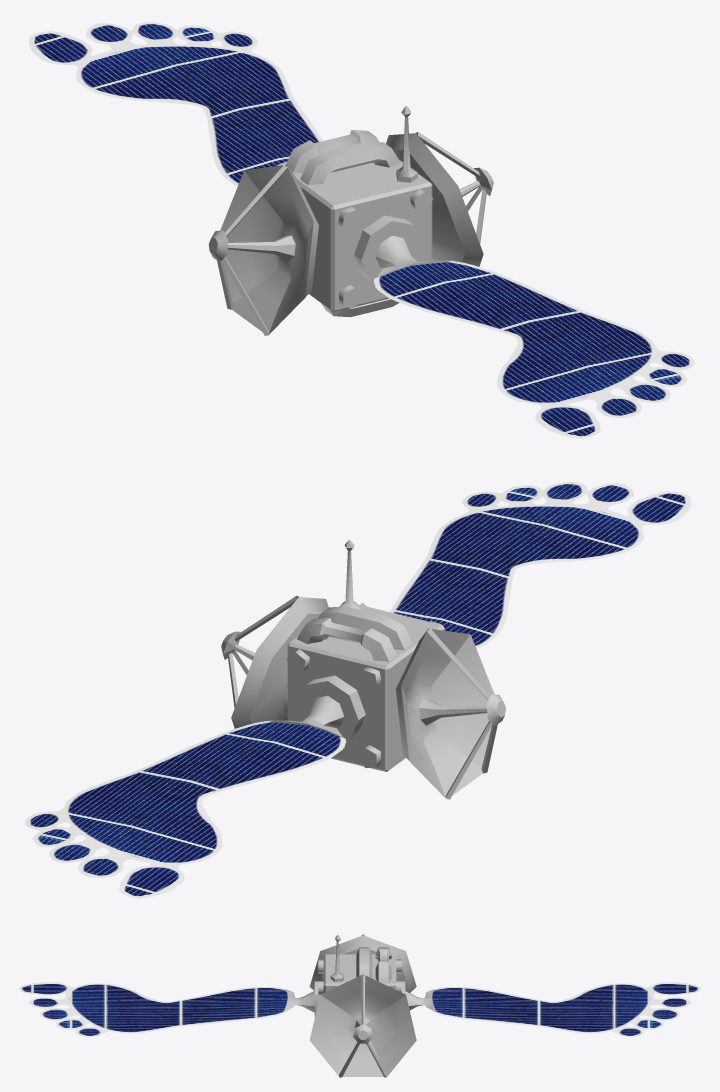
The model's file is SM_Satelifeet.fbx.
3 views of the same model, one above another, from view 1: azimuth 30°, elevation 25°; view 2: azimuth 150°, elevation 25°; view 3: azimuth 270°, elevation 25° (orthographic). The views are drawn at different scales.
Visible parts, largest first — view 1: Object002; view 2: Object002; view 3: Object002.
Part boxes in pixels (box(x1,y1,x2,y2)): Object002: box(28, 21, 694, 438); Object002: box(25, 481, 691, 898); Object002: box(19, 934, 700, 1077).
Bounding box in the file's own units: 137 × 92.75 × 477.
